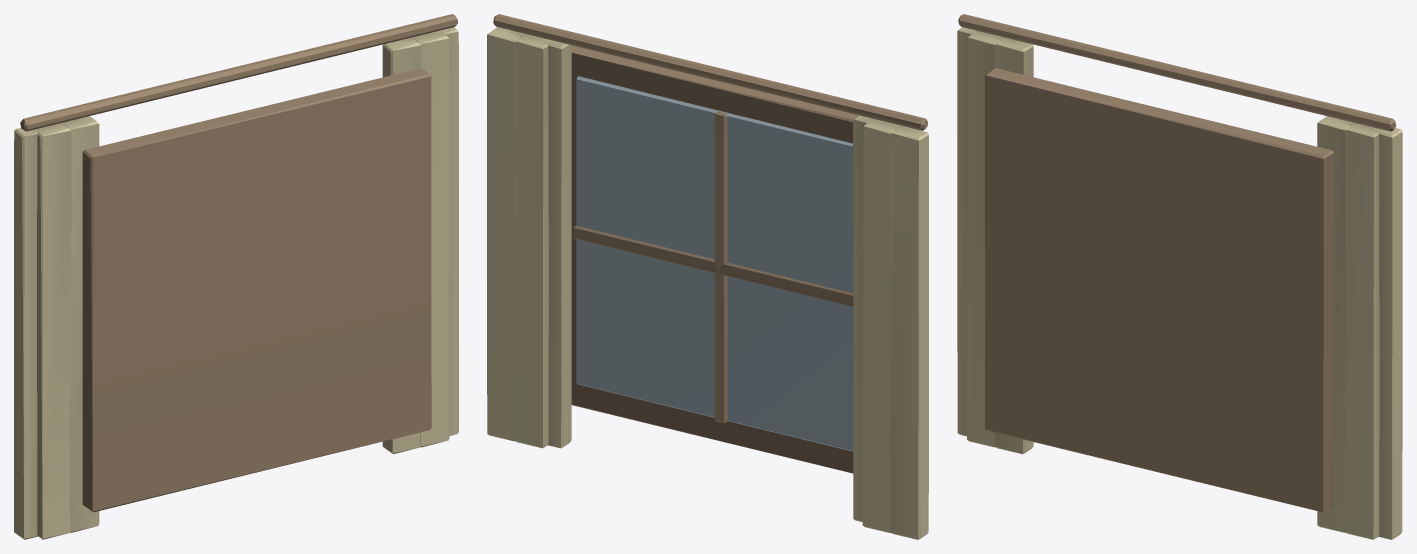
The model's file is furn_curtain_window__butter_low.glb.
3 views of the same model, side by side, from view 1: azimuth 30°, elevation 25°; view 2: azimuth 150°, elevation 25°; view 3: azimuth 330°, elevation 25° (orthographic).
Size of the model in its own units: 1.41 by 1.29 by 0.1709.
